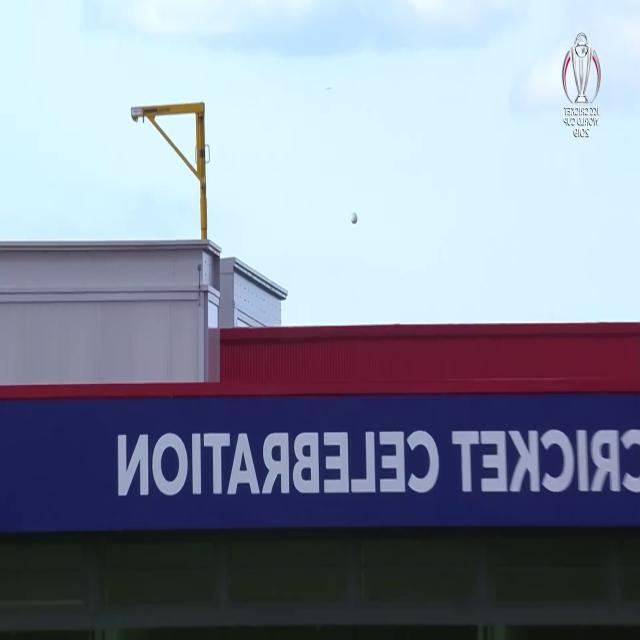ball: (347, 209, 360, 229)
